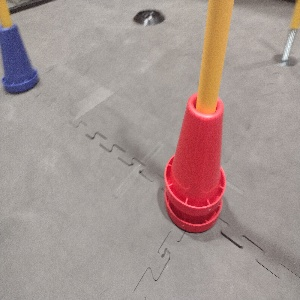Blue_1: (0, 21, 40, 95)
Red_2: (162, 89, 225, 234)
